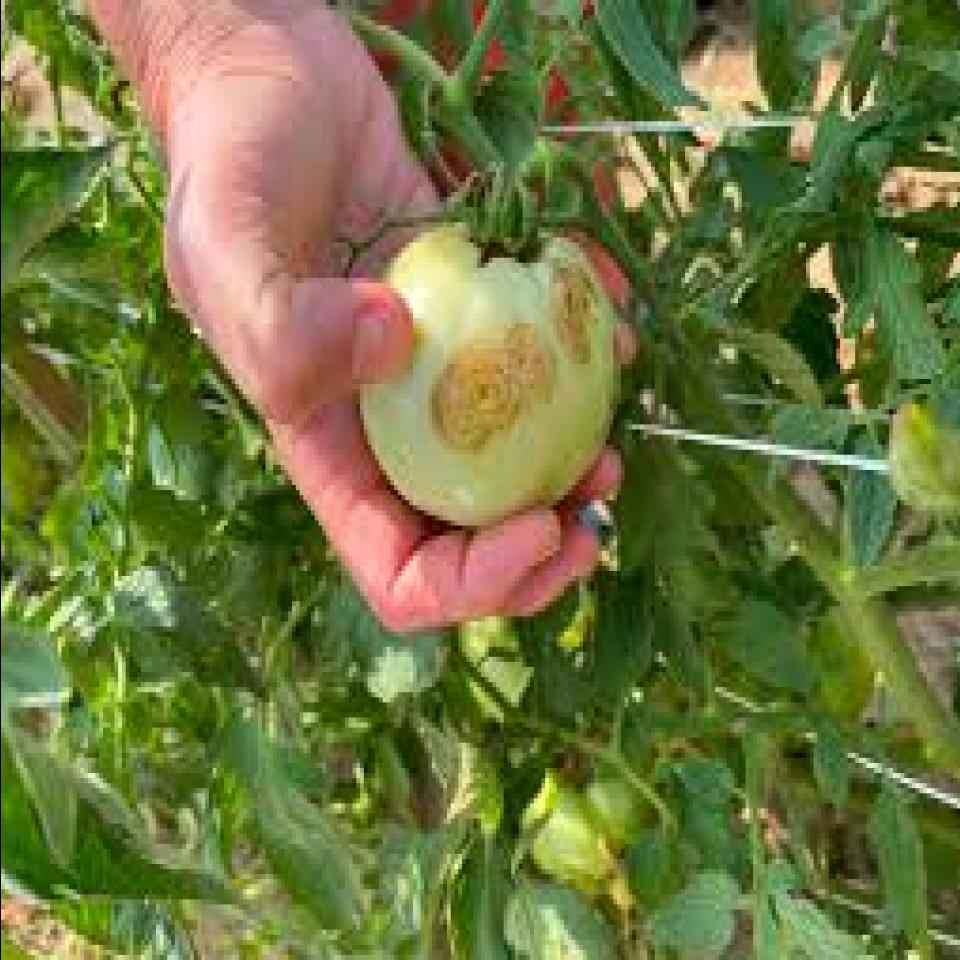Spotted wilt Virus: (359, 227, 623, 531)
